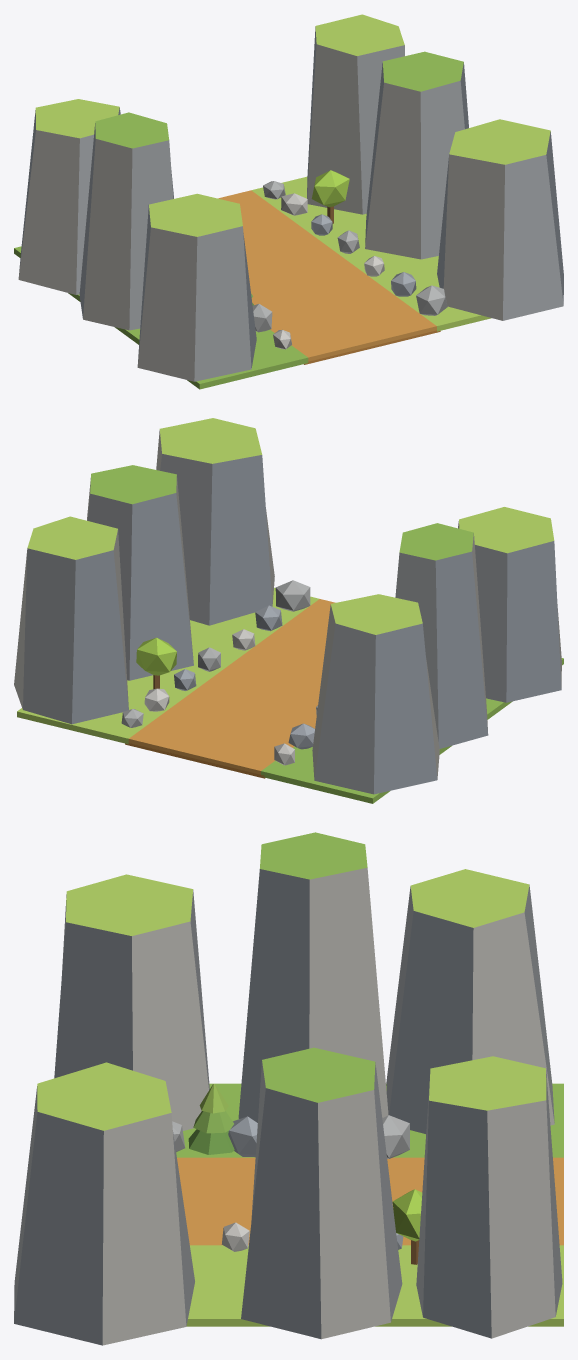
Rendered from canyon-segment-1.glb.
3 renders of one model, top to bottom at view 1: azimuth 30°, elevation 25°; view 2: azimuth 150°, elevation 25°; view 3: azimuth 270°, elevation 25°, orthographic. The views are drawn at different scales.
Parts seen in each view (by area): view 1: Cliff_1_0, Cliff_-1_0, Road, Cliff_1_1, Cliff_-1_1, Cliff_1_2, Cliff_-1_2, GrassBank_1, GrassBank_-1, RoundTree_1-crown, BorderRock_1_0, BorderRock_1_1 (+1 smaller); view 2: Cliff_-1_2, Cliff_1_2, Cliff_1_0, Road, Cliff_-1_0, Cliff_1_1, Cliff_-1_1, GrassBank_1, GrassBank_-1, RoundTree_1-crown, BorderRock_1_0, BorderRock_1_1 (+3 smaller); view 3: Cliff_1_0, Cliff_1_1, Cliff_1_2, Cliff_-1_2, Cliff_-1_0, Cliff_-1_1, Road, GrassBank_1, GrassBank_-1, RoundTree_1-crown, BorderRock_-1_4, BorderRock_-1_2 (+3 smaller).
Part boxes in pixels (x1,y1,x2,y2): Cliff_1_0: (437, 119, 563, 320); Cliff_-1_0: (137, 193, 256, 381); Road: (218, 190, 436, 361); Cliff_1_1: (365, 51, 468, 259); Cliff_-1_1: (79, 112, 173, 330); Cliff_1_2: (307, 14, 404, 214); Cliff_-1_2: (18, 99, 120, 294); GrassBank_1: (251, 176, 491, 331); GrassBank_-1: (14, 246, 308, 389); RoundTree_1-crown: (311, 170, 349, 207); BorderRock_1_0: (416, 285, 447, 315); BorderRock_1_1: (391, 272, 416, 296); Cliff_-1_2: (312, 594, 439, 794); Cliff_1_2: (14, 516, 128, 724); Cliff_1_0: (156, 418, 274, 625); Road: (128, 599, 335, 774); Cliff_-1_0: (458, 507, 561, 702); Cliff_1_1: (87, 465, 193, 680); Cliff_-1_1: (395, 523, 488, 748); GrassBank_1: (17, 587, 319, 744); GrassBank_-1: (261, 658, 563, 803); RoundTree_1-crown: (136, 637, 176, 675); BorderRock_1_0: (275, 580, 310, 611); BorderRock_1_1: (255, 605, 282, 631); Cliff_1_0: (14, 1062, 194, 1345); Cliff_1_1: (241, 1047, 402, 1339); Cliff_1_2: (416, 1056, 562, 1338); Cliff_-1_2: (386, 869, 554, 1133); Cliff_-1_0: (54, 874, 209, 1130); Cliff_-1_1: (238, 832, 388, 1122); Road: (177, 1157, 563, 1245); GrassBank_1: (186, 1245, 563, 1326); GrassBank_-1: (176, 1083, 563, 1157); RoundTree_1-crown: (392, 1189, 422, 1241); BorderRock_-1_4: (382, 1115, 409, 1158); BorderRock_-1_2: (228, 1116, 257, 1157).
Size of the model in its own units: 20.62 by 8.69 by 16.98.
